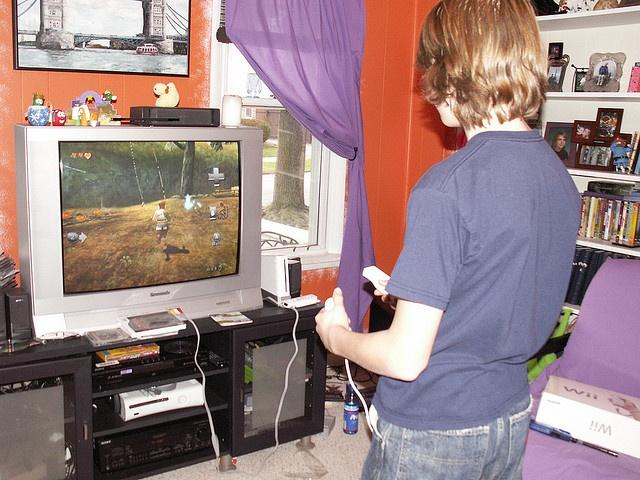AIO PC-Monitor-TV: (24, 123, 261, 315)
Rak: (530, 0, 639, 260)
